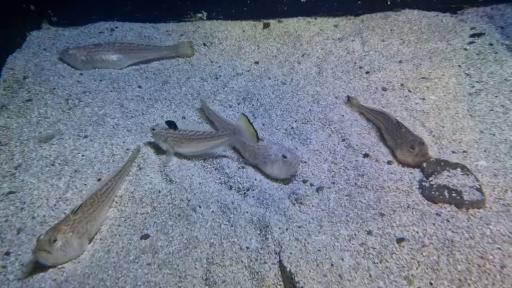Fish: (34, 148, 139, 266), (151, 100, 301, 179), (347, 96, 430, 167), (60, 41, 194, 70)
